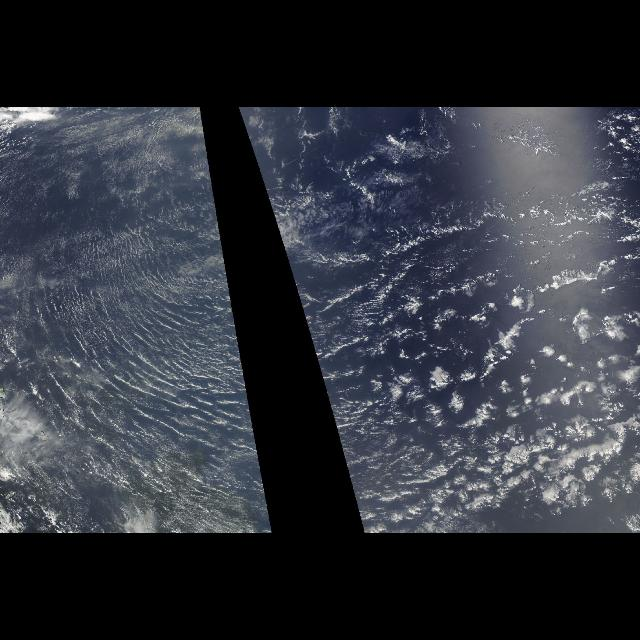Gravel: (398, 209, 630, 517)
Sugar: (12, 129, 256, 533)
